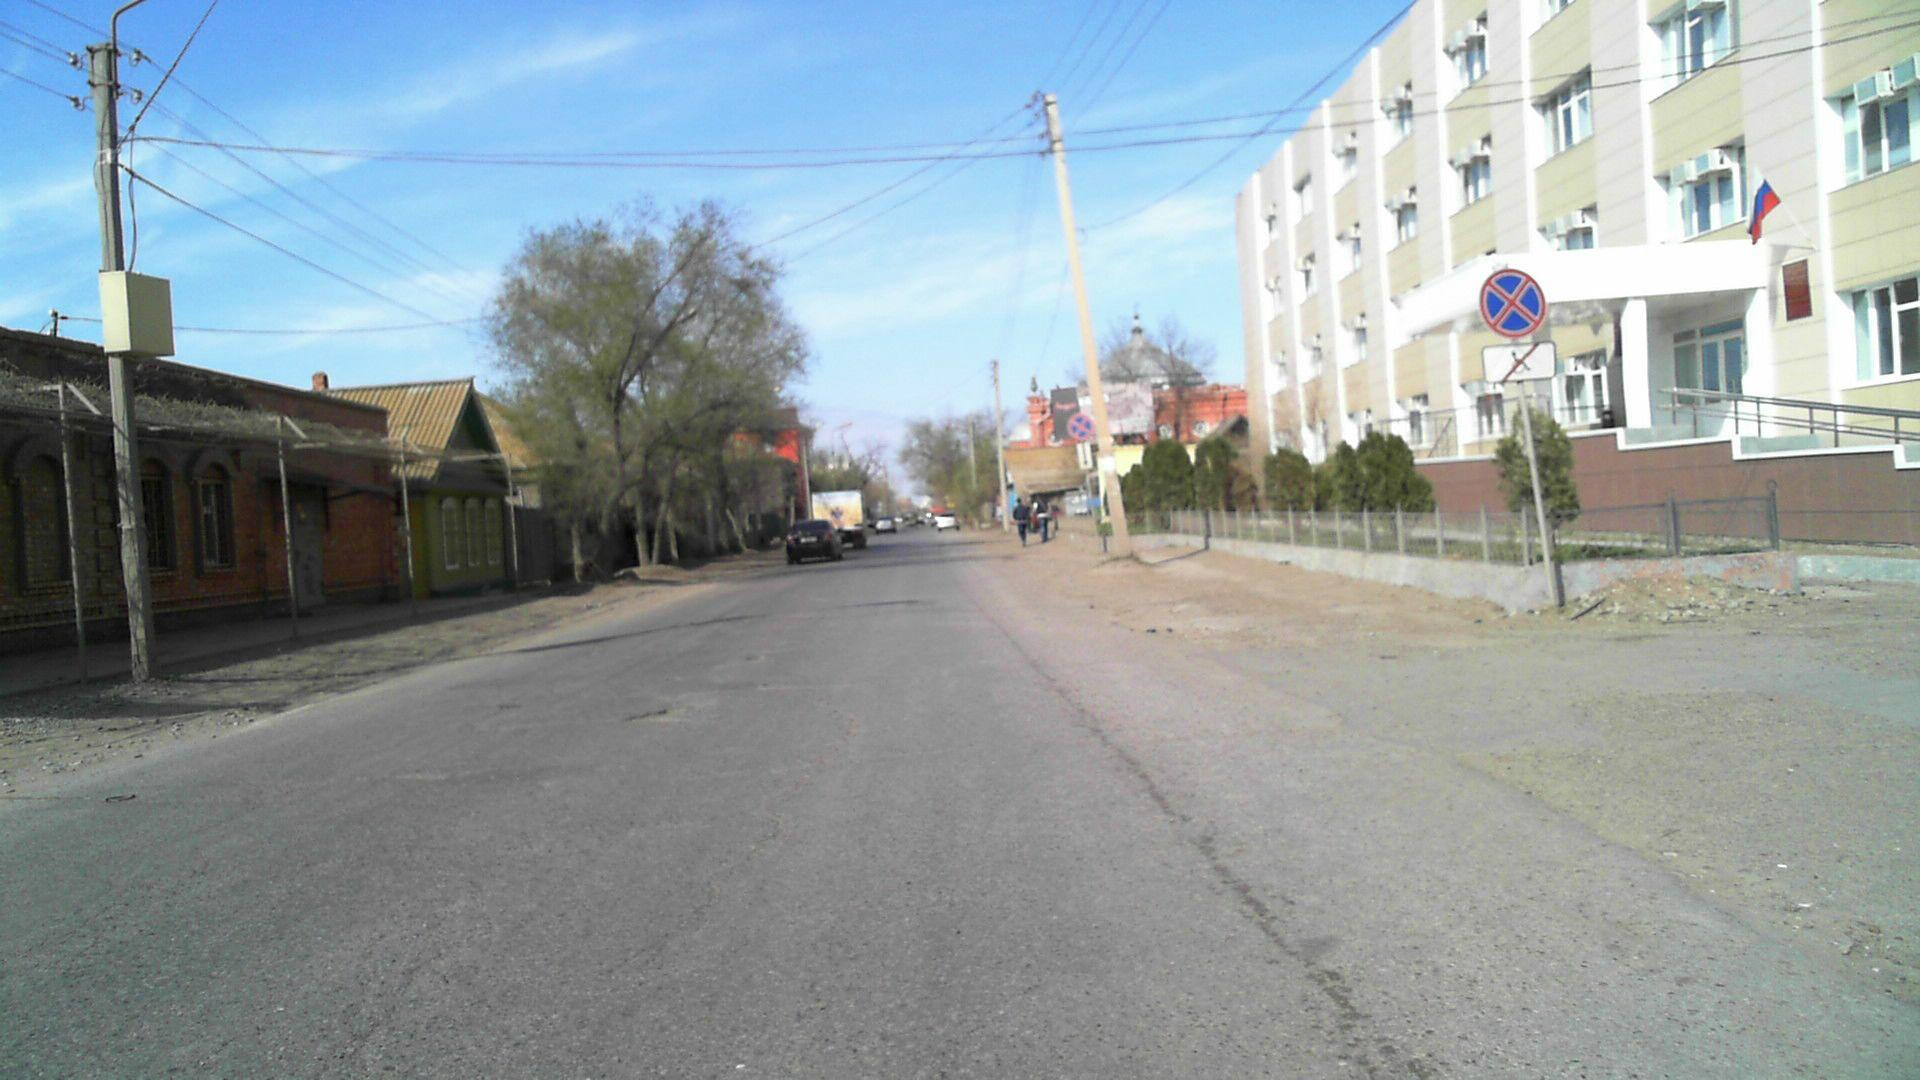3_27: (1478, 269, 1551, 339), (1064, 411, 1093, 440)
8_18: (1484, 342, 1557, 382)
8_2_3: (1075, 442, 1096, 472)
